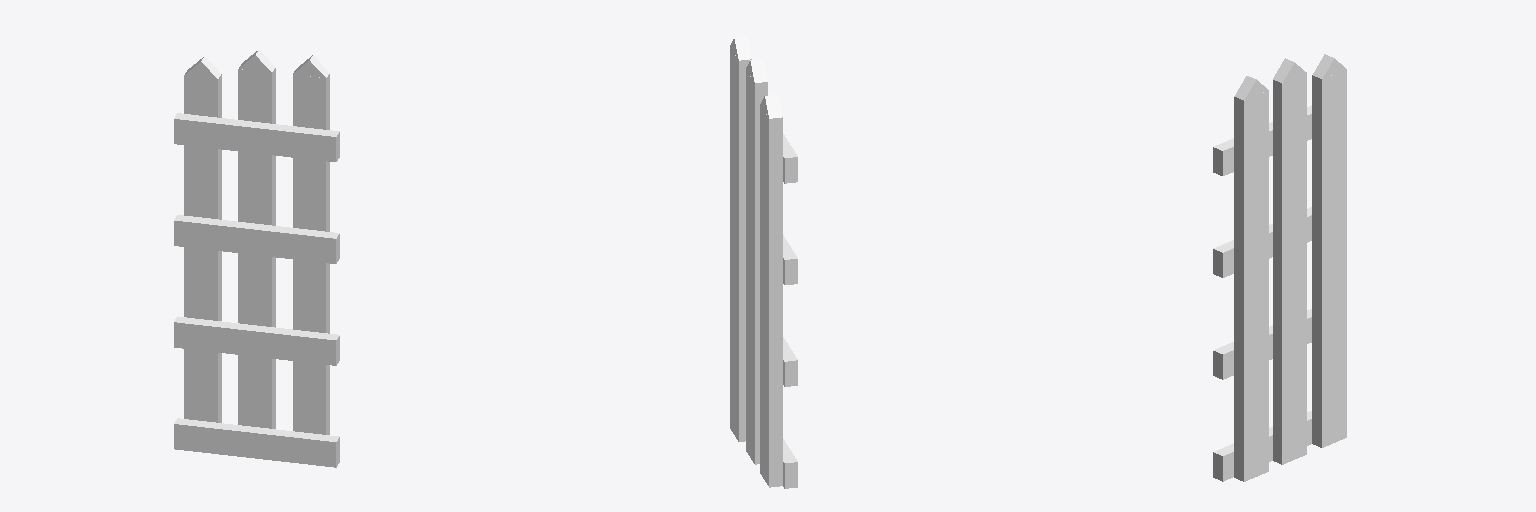
File: thin_white_picket_fence_ne_flipped_down.obj
3 renders of one model, left to right at view 1: azimuth 30°, elevation 25°; view 2: azimuth 150°, elevation 25°; view 3: azimuth 270°, elevation 25°, orthographic.
Parts seen in each view (by area): view 1: cube.022, cube, cube.001, cube.032, cube.008, cube.009, cube.0010, cube.005, cube.007, cube.002; view 2: cube.009, cube.002, cube.007, cube.0010, cube.005, cube.008, cube.022, cube, cube.001, cube.032; view 3: cube.007, cube.009, cube.0010, cube.008, cube.005, cube.002, cube.022, cube.032, cube, cube.001.
Boxes of the visible parts, x1=… form: cube.022: x1=174, y1=418, x2=339, y2=467; cube: x1=174, y1=113, x2=339, y2=161; cube.001: x1=174, y1=316, x2=339, y2=365; cube.032: x1=174, y1=215, x2=339, y2=263; cube.008: x1=238, y1=258, x2=275, y2=428; cube.009: x1=184, y1=252, x2=221, y2=422; cube.0010: x1=293, y1=264, x2=329, y2=434; cube.005: x1=238, y1=68, x2=275, y2=263; cube.007: x1=293, y1=74, x2=329, y2=268; cube.002: x1=184, y1=74, x2=221, y2=256; cube.009: x1=760, y1=283, x2=782, y2=487; cube.002: x1=760, y1=105, x2=782, y2=296; cube.007: x1=730, y1=48, x2=751, y2=250; cube.0010: x1=730, y1=238, x2=745, y2=441; cube.005: x1=746, y1=70, x2=767, y2=273; cube.008: x1=746, y1=261, x2=759, y2=464; cube.022: x1=783, y1=439, x2=797, y2=488; cube: x1=783, y1=134, x2=797, y2=183; cube.001: x1=783, y1=337, x2=797, y2=386; cube.032: x1=783, y1=235, x2=797, y2=284; cube.007: x1=1234, y1=90, x2=1268, y2=290; cube.009: x1=1312, y1=247, x2=1346, y2=447; cube.0010: x1=1234, y1=281, x2=1268, y2=481; cube.008: x1=1273, y1=264, x2=1306, y2=464; cube.005: x1=1273, y1=73, x2=1306, y2=273; cube.002: x1=1312, y1=69, x2=1346, y2=256; cube.022: x1=1213, y1=411, x2=1311, y2=481; cube.032: x1=1213, y1=207, x2=1311, y2=277; cube: x1=1213, y1=105, x2=1311, y2=175; cube.001: x1=1213, y1=309, x2=1311, y2=379.
Bounding box in the file's own units: 0.5784 × 1.95 × 0.5966.